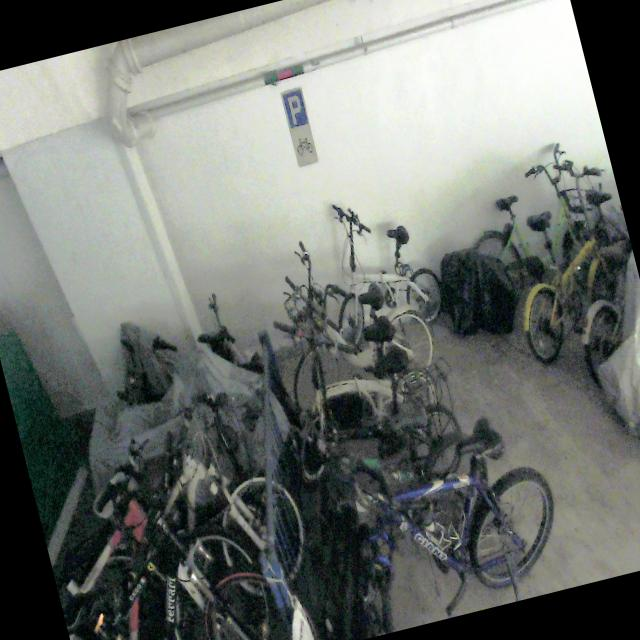bike: (49, 370, 325, 640), (290, 402, 574, 640), (27, 416, 284, 640), (279, 336, 477, 540), (264, 284, 450, 483), (257, 215, 442, 412), (452, 135, 628, 330), (486, 148, 640, 363), (310, 182, 450, 347)
